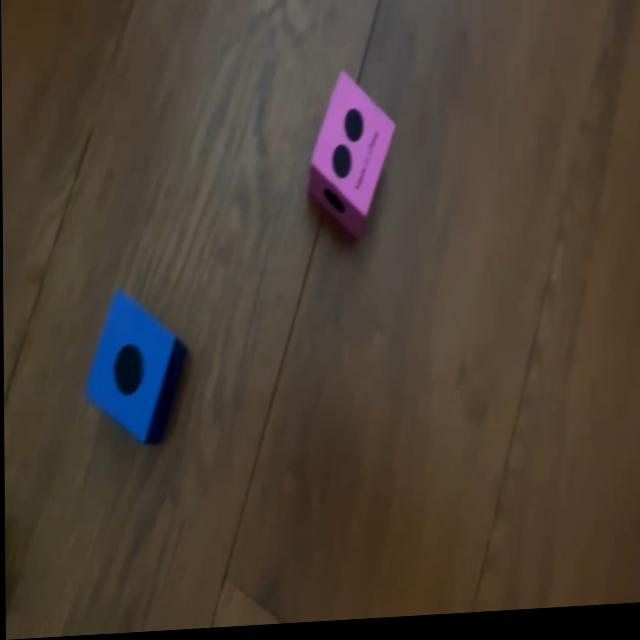cube: (84, 292, 185, 448)
